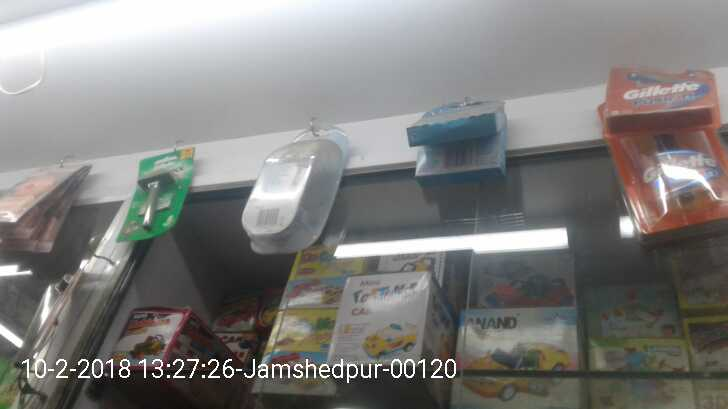gillette: (625, 129, 728, 225), (608, 66, 716, 125)
